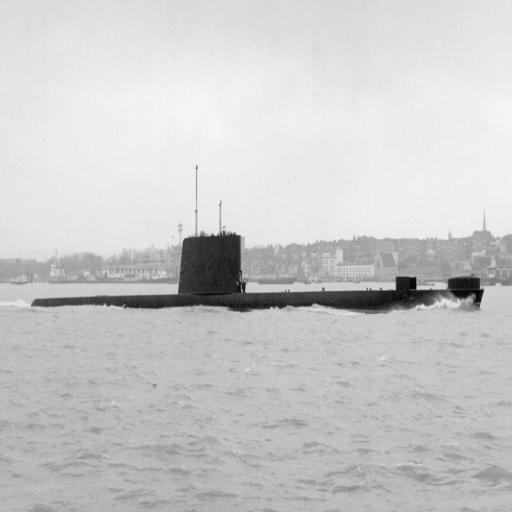submarine: (29, 235, 489, 310)
